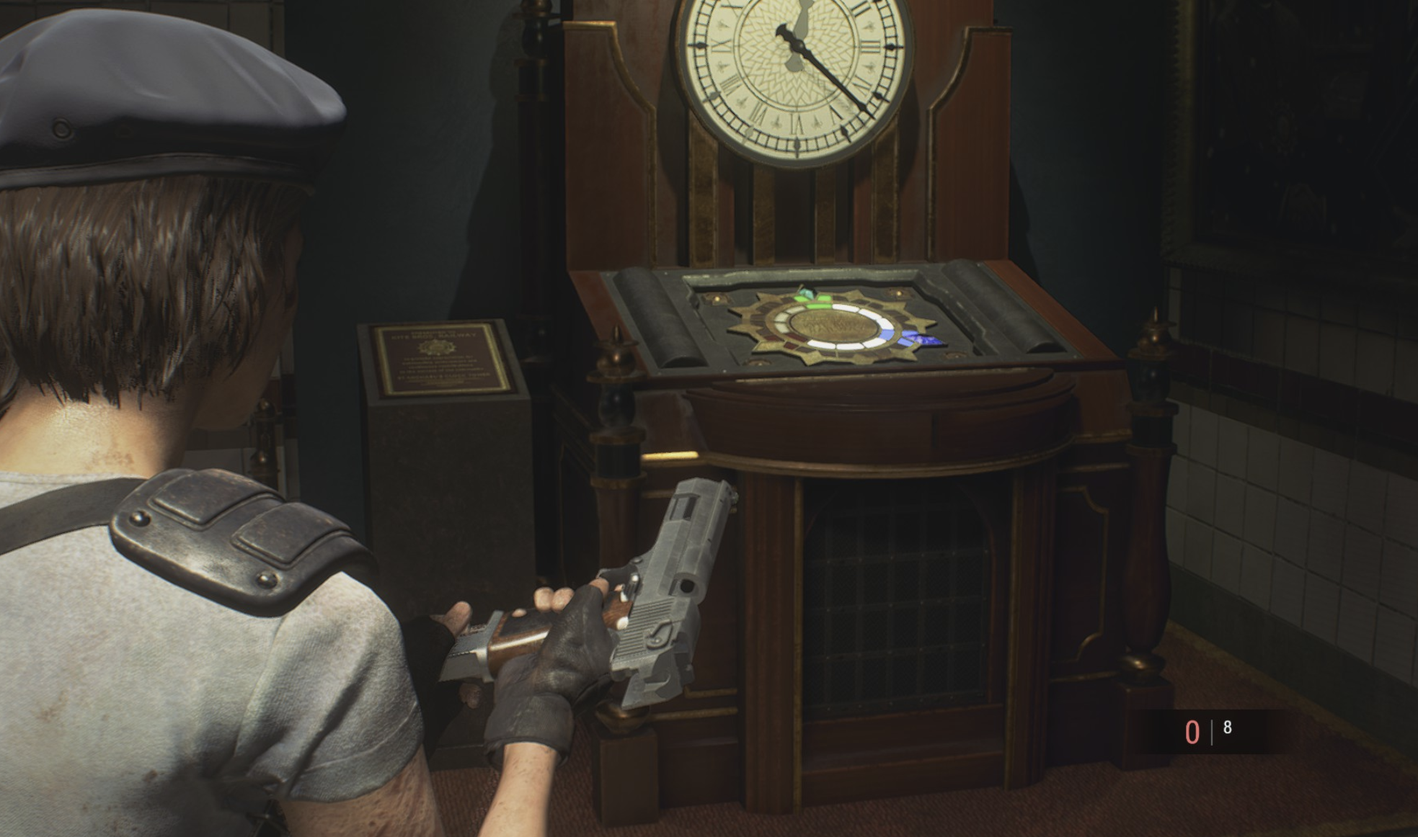gun_012: (419, 465, 745, 717)
